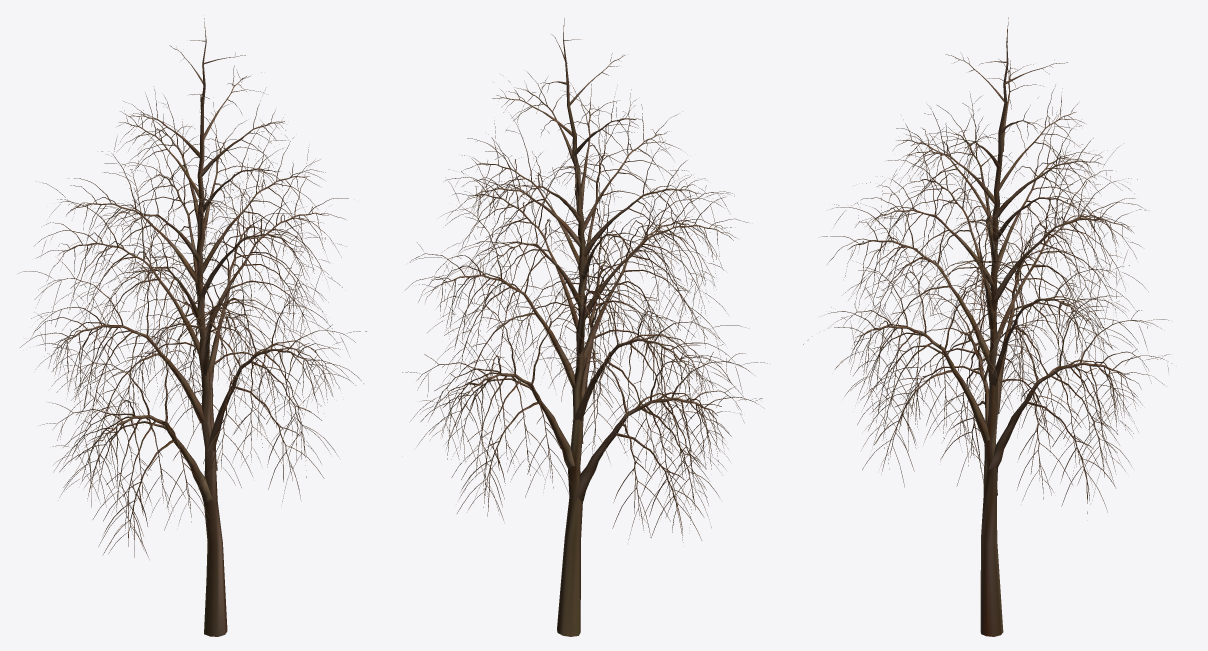
File: TreeSub0.obj
3 renders of one model, left to right at view 1: azimuth 30°, elevation 25°; view 2: azimuth 150°, elevation 25°; view 3: azimuth 270°, elevation 25°, orthographic. The views are drawn at different scales.
Size of the model in its own units: 8.34 by 15.83 by 9.14.
